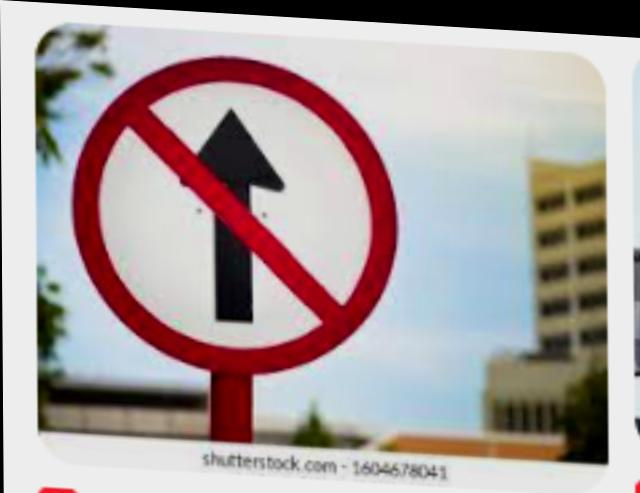not_go_straight: (76, 32, 395, 380)
